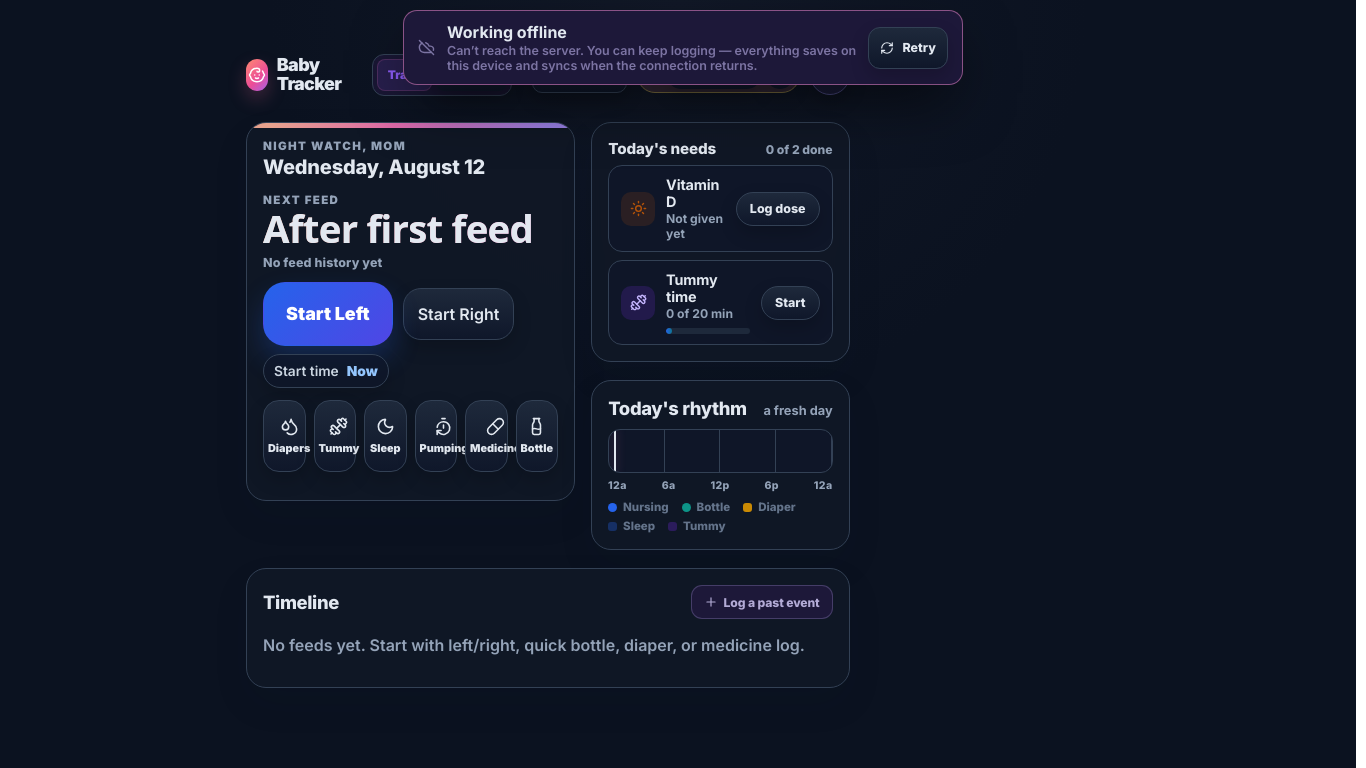
Test: caregiver today brief › starts a live tummy timer from the needs list and hands the page to the timer
Click the button with aria-label "Start Tummy Time timer". click: (790, 302)
box: [761,286,820,320]
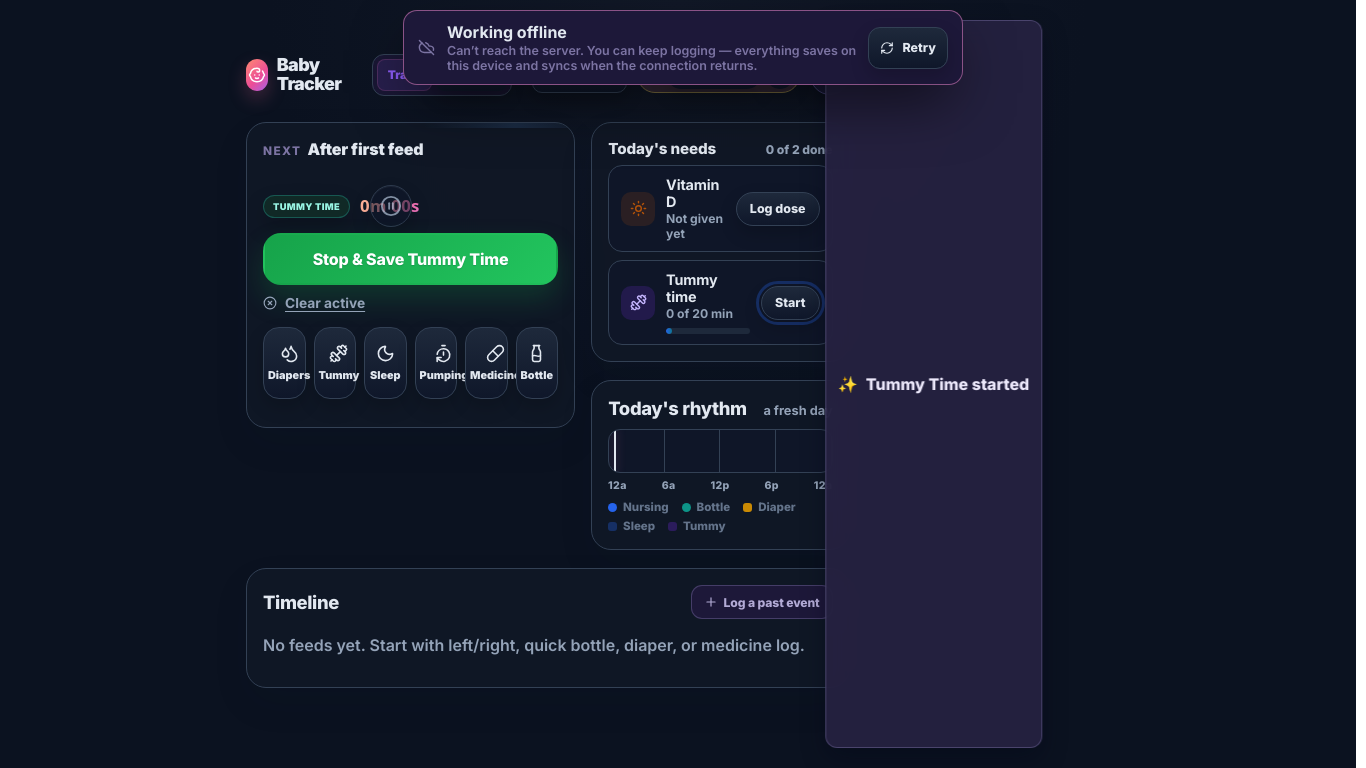
Expected: the element with class "today-brief" is gone
Expected: the text with class "timer-mode-pill" reads "Tummy Time", [273,200,340,212]
Expected: the button "Stop & Save Tummy Time" is shown, [263,233,558,285]
